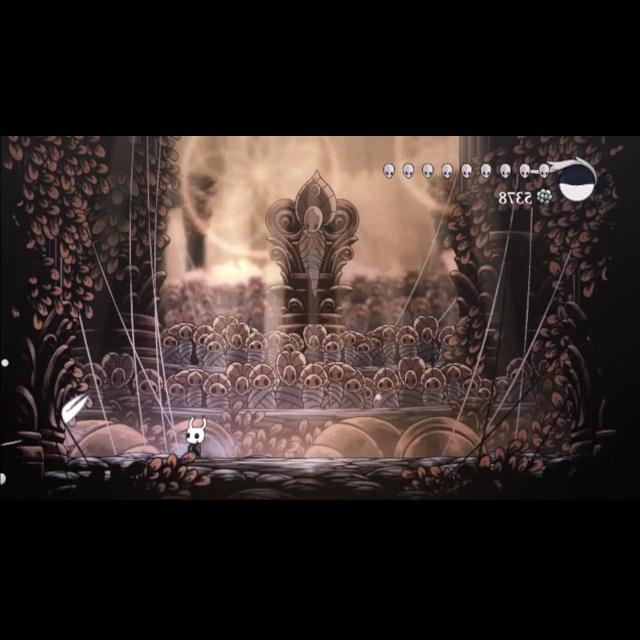Enemy: (44, 388, 108, 458)
Player: (174, 411, 216, 465)
